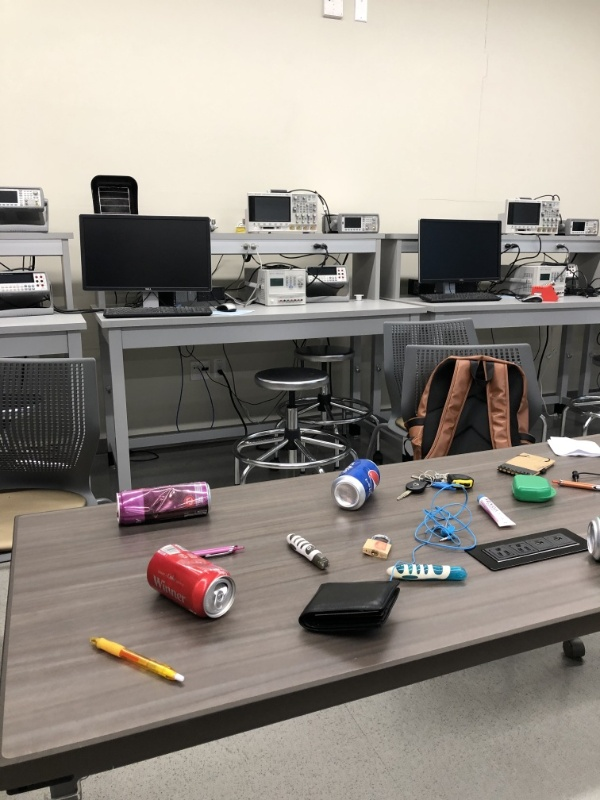can: (144, 541, 240, 625), (113, 478, 216, 531), (331, 456, 385, 513), (584, 514, 600, 562)
